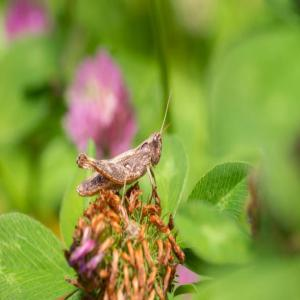locust: (68, 94, 181, 212)
